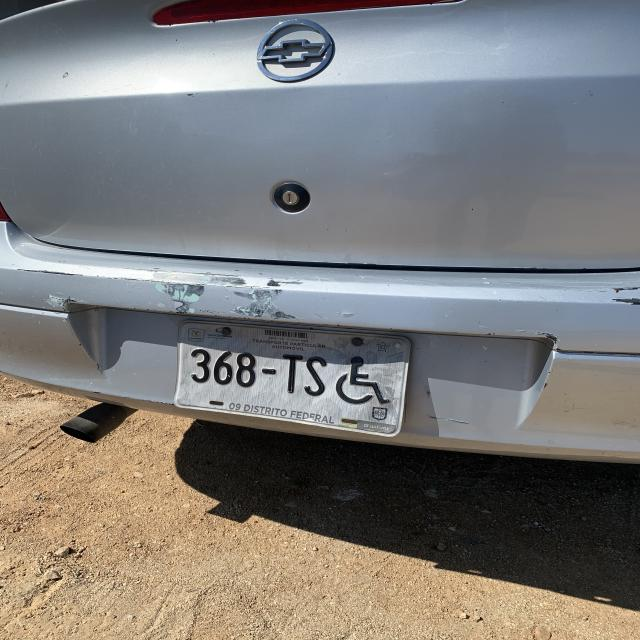placa: (181, 341, 339, 401)
